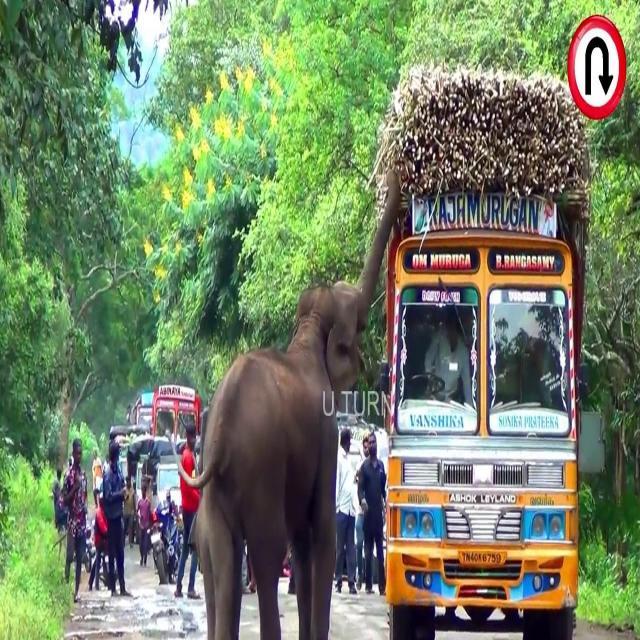Elephant: (177, 167, 401, 639)
